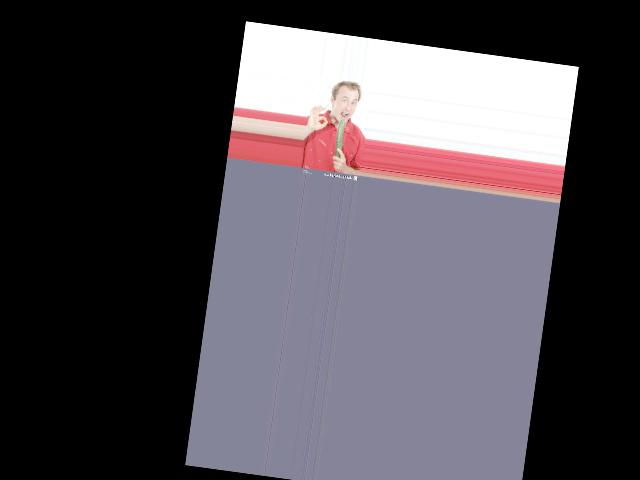cucumber: (334, 118, 344, 157)
